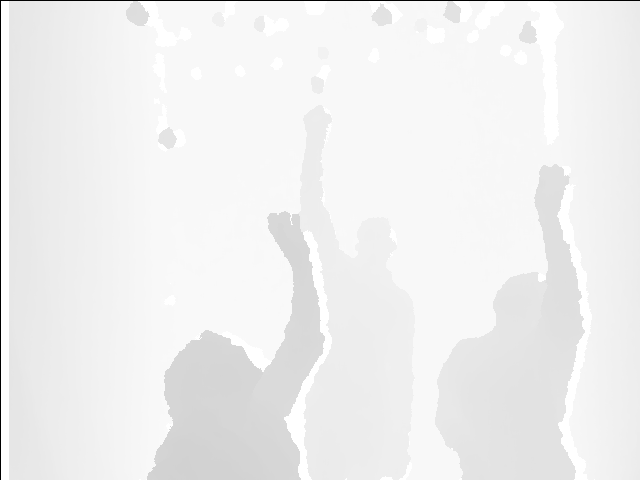hand: (264, 210, 316, 262), (534, 166, 571, 222), (299, 103, 335, 150)
